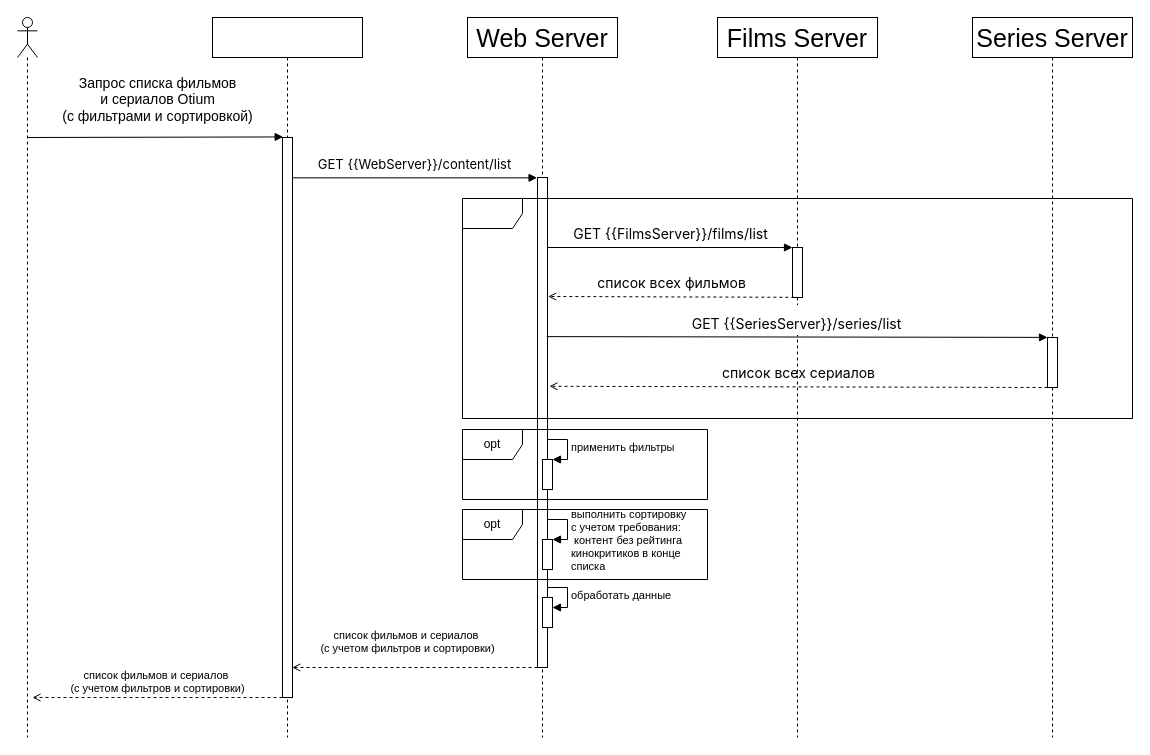
Image size: 1150x755. Some labels were removed from this diagram. The shapes that lost their labels are listed below. From the top down, each one's box as (x1, y1, x2, y2) in pixels, then its label:
(462, 198, 1132, 418): par
(212, 16, 362, 738): UI: Otium
